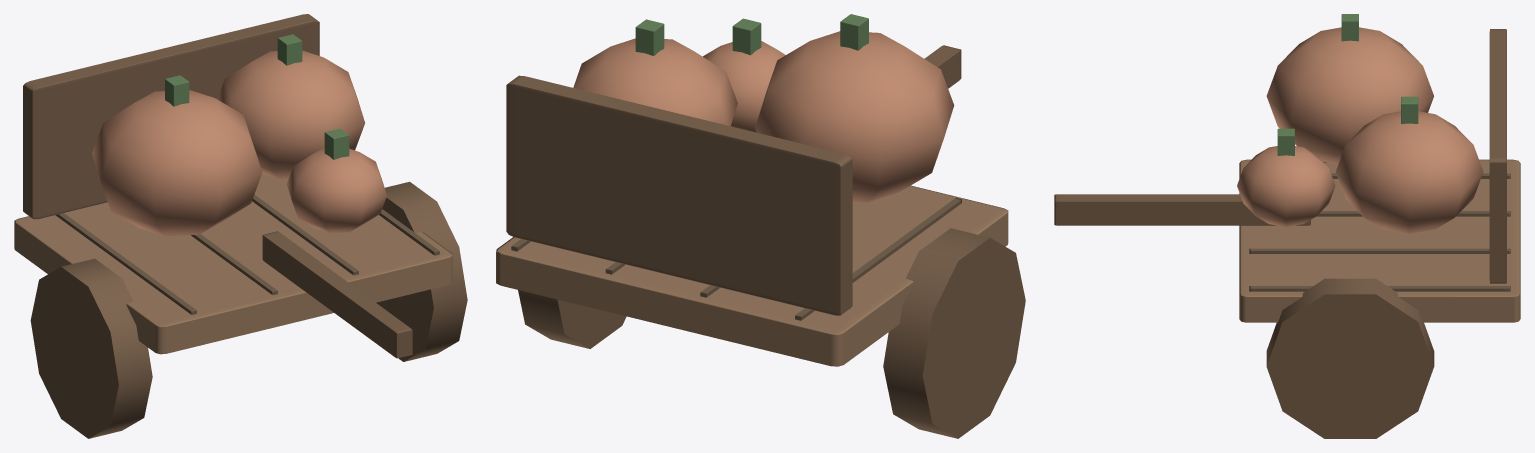
Rendered from autumncart-0.glb.
3 views of the same model, side by side, from view 1: azimuth 30°, elevation 25°; view 2: azimuth 150°, elevation 25°; view 3: azimuth 270°, elevation 25° (orthographic). The views are drawn at different scales.
Visible parts, largest first — view 1: autumncart-0-0; view 2: autumncart-0-0; view 3: autumncart-0-0.
Boxes of the visible parts, <box> form: autumncart-0-0: <box>14,14,467,438</box>; autumncart-0-0: <box>496,14,1025,438</box>; autumncart-0-0: <box>1054,14,1520,438</box>.
Size of the model in its own units: 0.775 by 0.6877 by 0.945.
